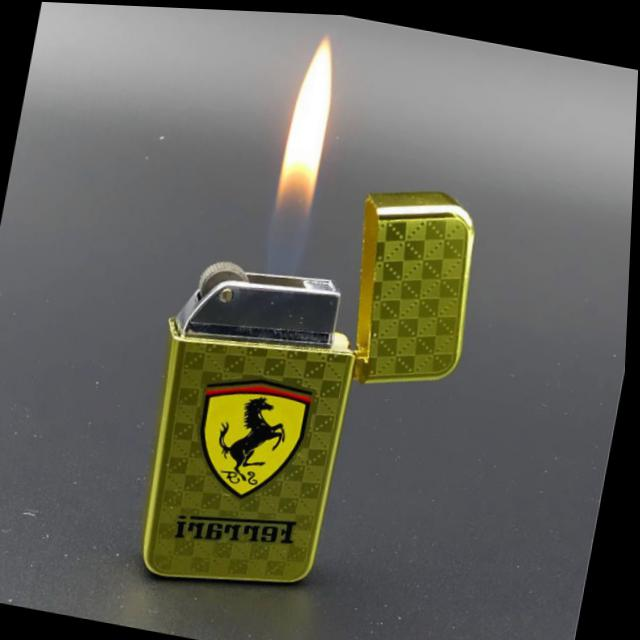fire: (274, 27, 346, 217)
